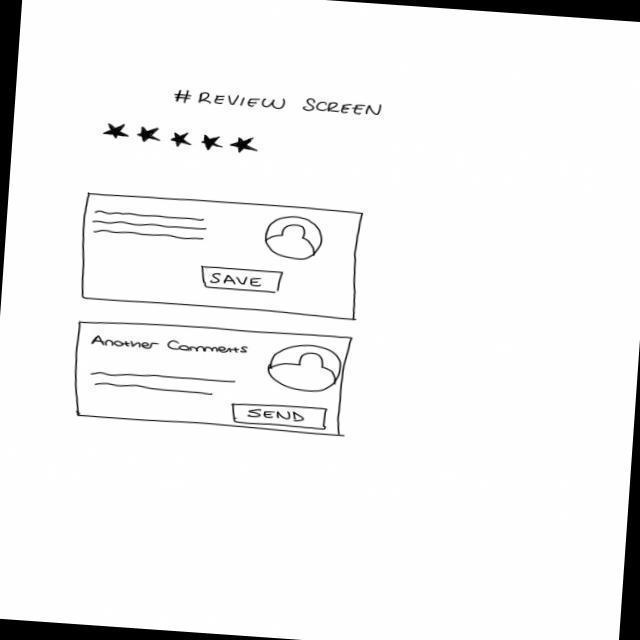button: (230, 400, 331, 432), (198, 265, 288, 295)
container: (77, 190, 368, 323), (70, 316, 355, 439)
image: (266, 342, 344, 396), (264, 214, 325, 263)
label: (173, 87, 386, 121), (89, 333, 253, 358)
textbox: (88, 369, 239, 400), (89, 210, 209, 244)
